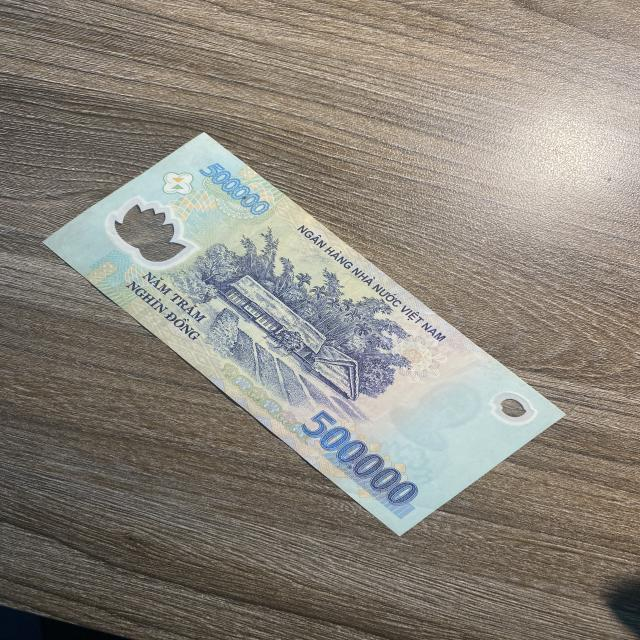500 000 VND: (41, 130, 568, 538)
